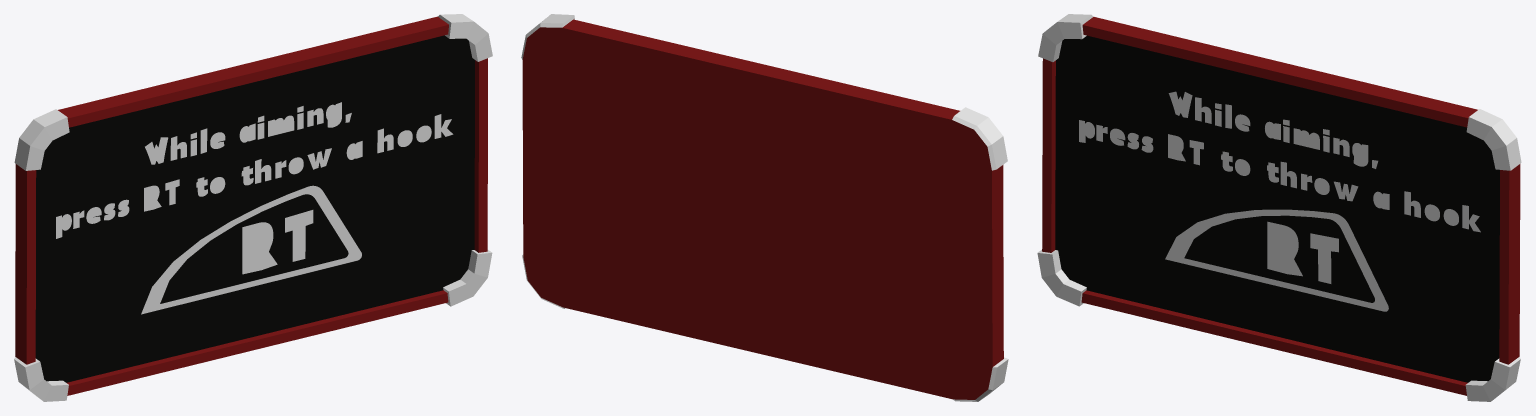
The model's file is Tuto8-XB.FBX.
3 renders of one model, left to right at view 1: azimuth 30°, elevation 25°; view 2: azimuth 150°, elevation 25°; view 3: azimuth 330°, elevation 25°, orthographic.
Visible parts, largest first — view 1: Pizarra 11, Text032, Shape022, Text033; view 2: Pizarra 11; view 3: Pizarra 11, Text032, Shape022, Text033.
Boxes of the visible parts, left/top/right/bottom form: Pizarra 11: left=14, top=14, right=492, bottom=401; Text032: left=56, top=102, right=453, bottom=238; Shape022: left=141, top=185, right=361, bottom=314; Text033: left=242, top=210, right=313, bottom=274; Pizarra 11: left=521, top=14, right=1008, bottom=401; Pizarra 11: left=1037, top=14, right=1521, bottom=401; Text032: left=1079, top=91, right=1480, bottom=232; Shape022: left=1165, top=209, right=1388, bottom=311; Text033: left=1267, top=221, right=1338, bottom=283.
Bounding box in the file's own units: 77.68 × 44.99 × 4.52.
